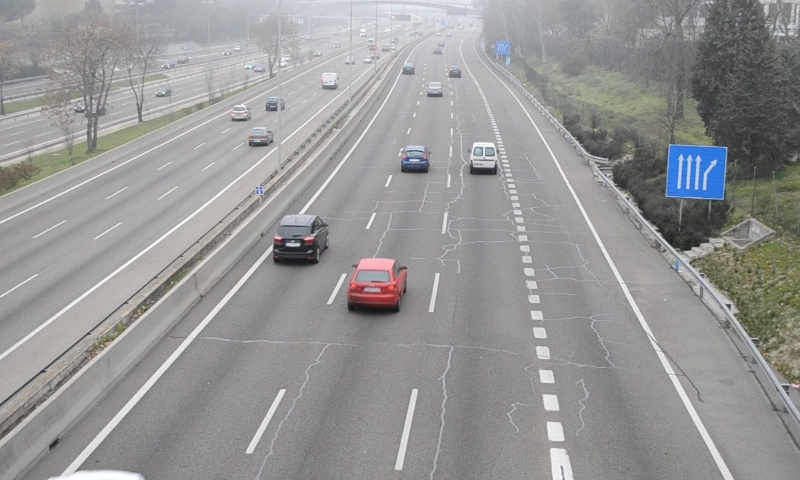car: (348, 258, 406, 310), (274, 214, 328, 262), (400, 145, 429, 172), (426, 81, 443, 97)
van: (469, 142, 498, 172)
